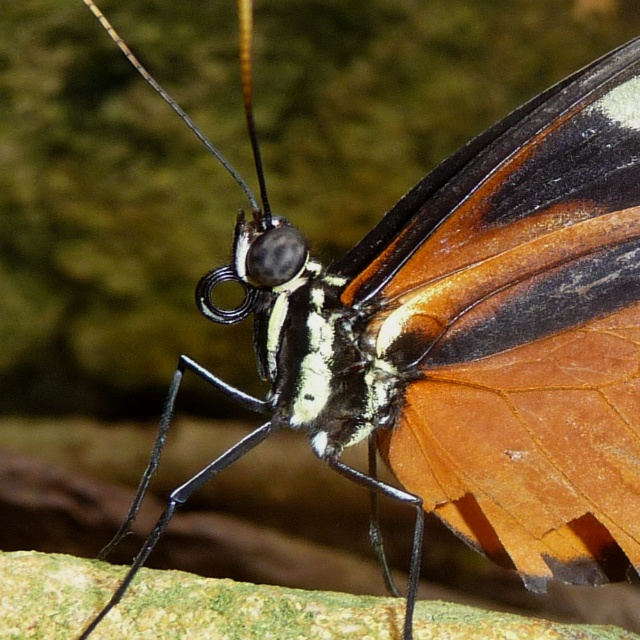Butterfly: (82, 12, 640, 640)
